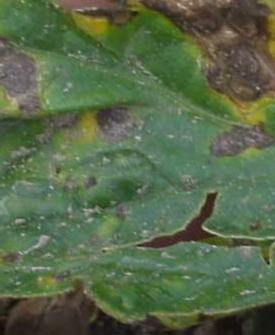Tomato Early blight leaf: (0, 0, 275, 332)
